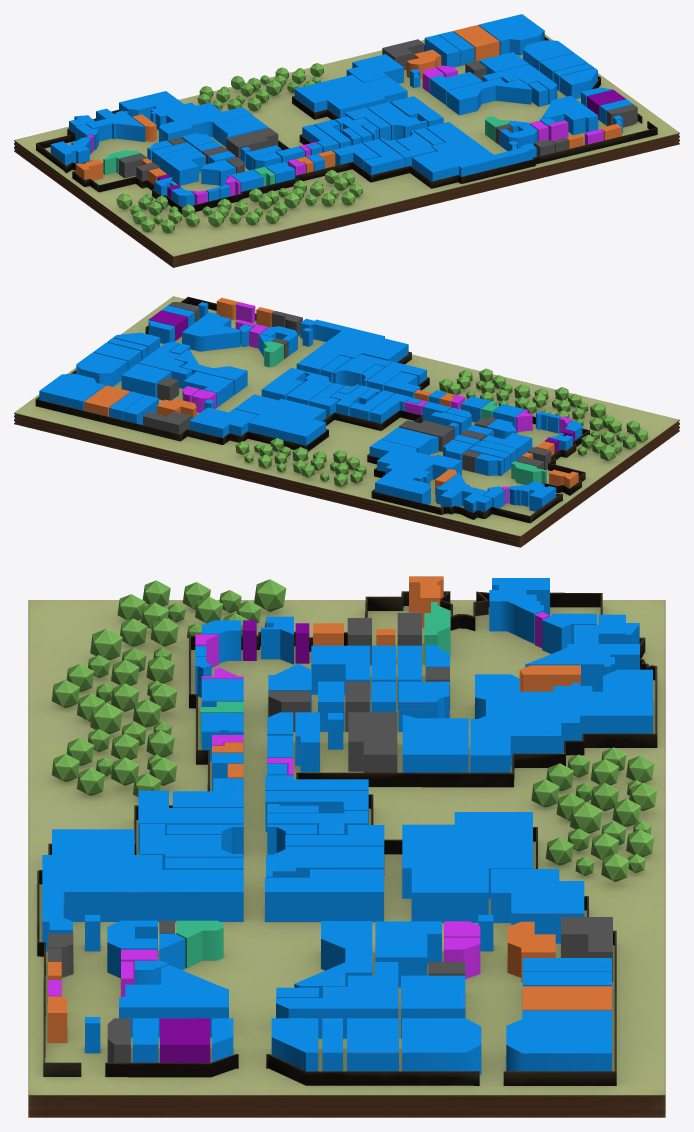
3 views of the same model, one above another, from view 1: azimuth 30°, elevation 25°; view 2: azimuth 150°, elevation 25°; view 3: azimuth 270°, elevation 25° (orthographic). The views are drawn at different scales.
Visible parts, largest first — view 1: land.001, trees.001, walls.001, units polySurface95.001, units polySurface5.001, units polySurface25.001, units polySurface63.001, units polySurface50.001, units polySurface56.001, units polySurface93.001, units polySurface49.001, units polySurface30.001 (+32 smaller); view 2: land.001, trees.001, walls.001, units polySurface5.001, units polySurface95.001, units polySurface25.001, units polySurface93.001, units polySurface50.001, units polySurface49.001, units polySurface56.001, units polySurface98.001, units polySurface13.001 (+36 smaller); view 3: land.001, trees.001, walls.001, units polySurface95.001, units polySurface5.001, units polySurface25.001, units polySurface50.001, units polySurface67.001, units polySurface49.001, units polySurface100.001, units polySurface93.001, units polySurface56.001 (+54 smaller).
Boxes of the visible parts, bbox=[...] form: land.001: bbox=[14, 34, 679, 267]; trees.001: bbox=[116, 63, 362, 233]; walls.001: bbox=[36, 36, 657, 214]; units polySurface95.001: bbox=[412, 122, 536, 181]; units polySurface5.001: bbox=[119, 91, 252, 141]; units polySurface25.001: bbox=[294, 74, 407, 117]; units polySurface63.001: bbox=[446, 78, 531, 115]; units polySurface50.001: bbox=[478, 14, 544, 55]; units polySurface56.001: bbox=[69, 108, 145, 141]; units polySurface93.001: bbox=[542, 95, 598, 135]; units polySurface49.001: bbox=[346, 54, 403, 83]; units polySurface30.001: bbox=[367, 102, 427, 140]; land.001: bbox=[14, 296, 679, 547]; trees.001: bbox=[235, 368, 648, 486]; walls.001: bbox=[35, 296, 589, 523]; units polySurface5.001: bbox=[369, 439, 461, 504]; units polySurface95.001: bbox=[296, 318, 408, 374]; units polySurface25.001: bbox=[234, 394, 325, 445]; units polySurface93.001: bbox=[182, 312, 239, 351]; units polySurface50.001: bbox=[39, 373, 105, 410]; units polySurface49.001: bbox=[189, 407, 257, 437]; units polySurface56.001: bbox=[435, 472, 491, 512]; units polySurface98.001: bbox=[76, 352, 127, 386]; units polySurface13.001: bbox=[121, 363, 171, 397]; land.001: bbox=[28, 600, 665, 1117]; trees.001: bbox=[51, 579, 656, 882]; walls.001: bbox=[37, 591, 657, 1085]; units polySurface95.001: bbox=[42, 829, 243, 951]; units polySurface5.001: bbox=[470, 669, 652, 772]; units polySurface25.001: bbox=[402, 812, 532, 922]; units polySurface50.001: bbox=[506, 1010, 611, 1071]; units polySurface67.001: bbox=[265, 869, 383, 921]; units polySurface49.001: bbox=[491, 869, 584, 943]; units polySurface100.001: bbox=[276, 962, 398, 1038]; units polySurface93.001: bbox=[119, 965, 228, 1037]; units polySurface56.001: bbox=[525, 614, 639, 691].
Size of the model in its own units: 4791 by 250 by 2609.
Materials: 4 (4 with a texture image).
